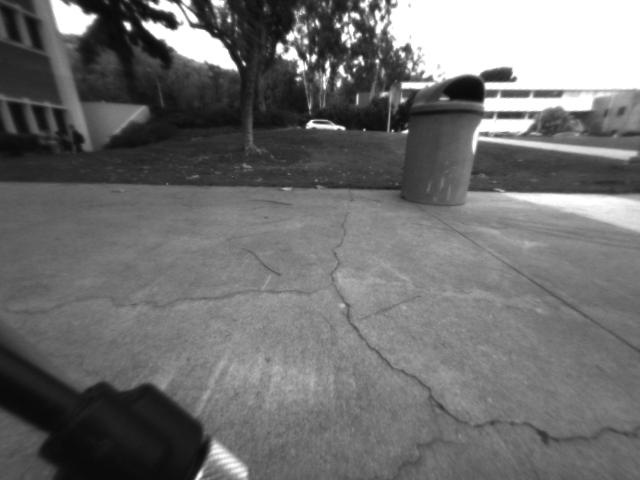trashcan: (404, 72, 484, 214)
